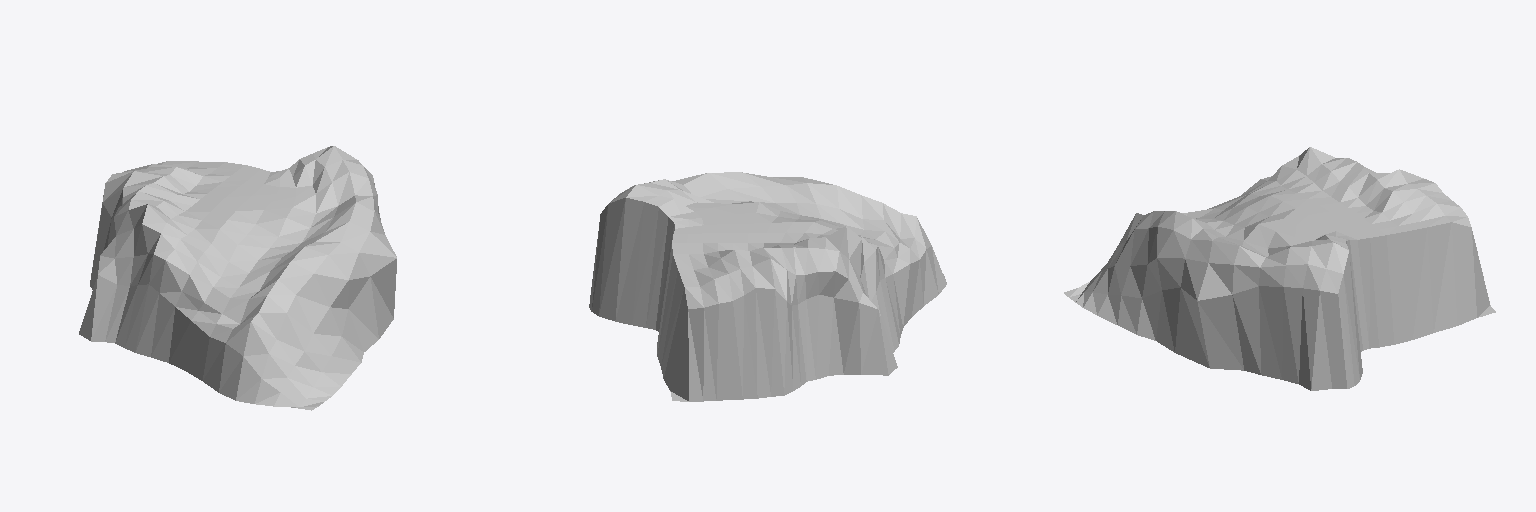
File: Platform4.obj
The picture shows the model from 3 angles: view 1: azimuth 30°, elevation 25°; view 2: azimuth 150°, elevation 25°; view 3: azimuth 270°, elevation 25°; orthographic projection.
Parts seen in each view (by area): view 1: Platform4; view 2: Platform4; view 3: Platform4.
Boxes of the visible parts, <box> form: Platform4: <box>79,146,396,410</box>; Platform4: <box>589,172,946,401</box>; Platform4: <box>1064,147,1495,390</box>.
Size of the model in its own units: 3689 by 1540 by 4647.